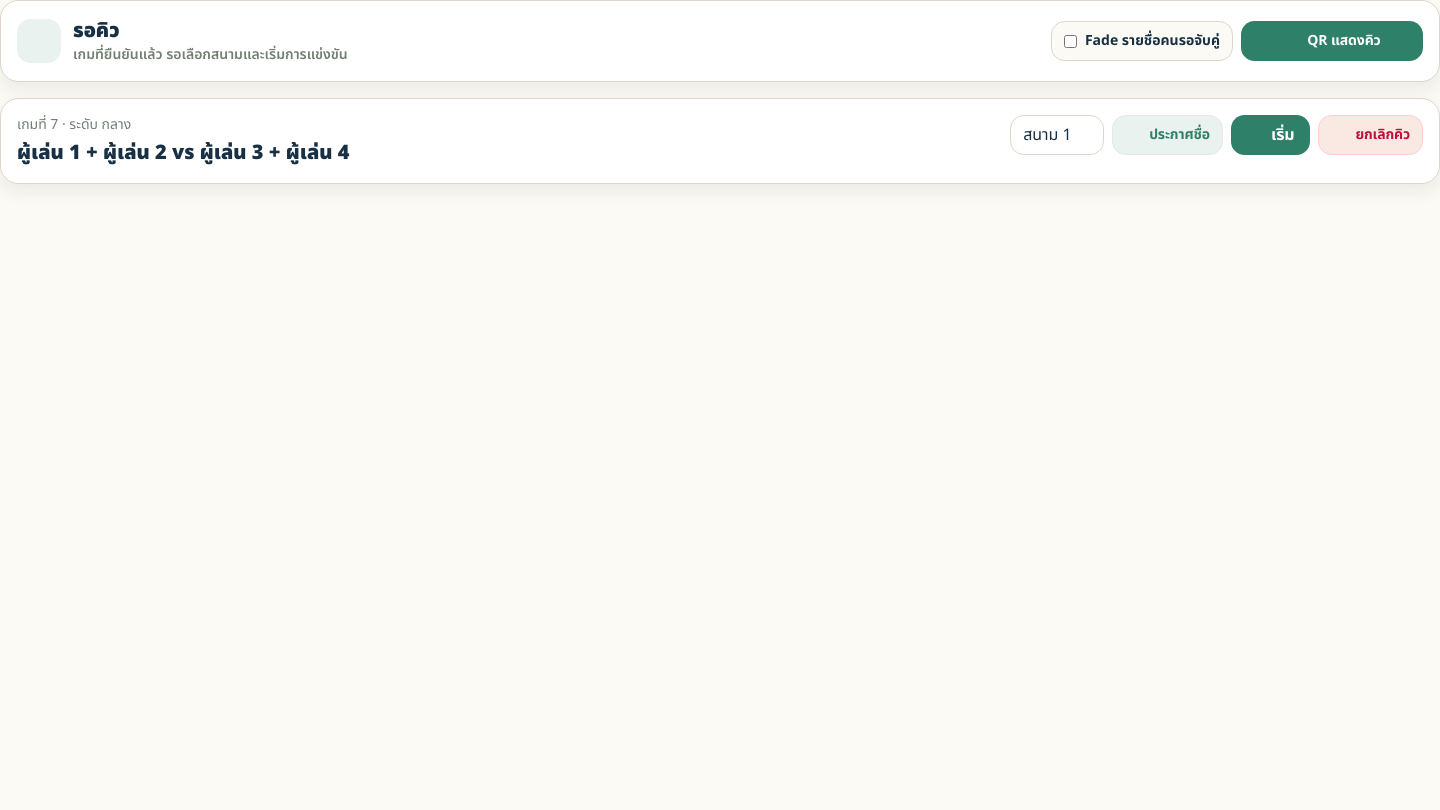
QueuePage shuttle stock › opens the selector and disables a linked brand when stock is empty
Click the button "เริ่ม" at [1271, 135], box [1231,115,1310,155]
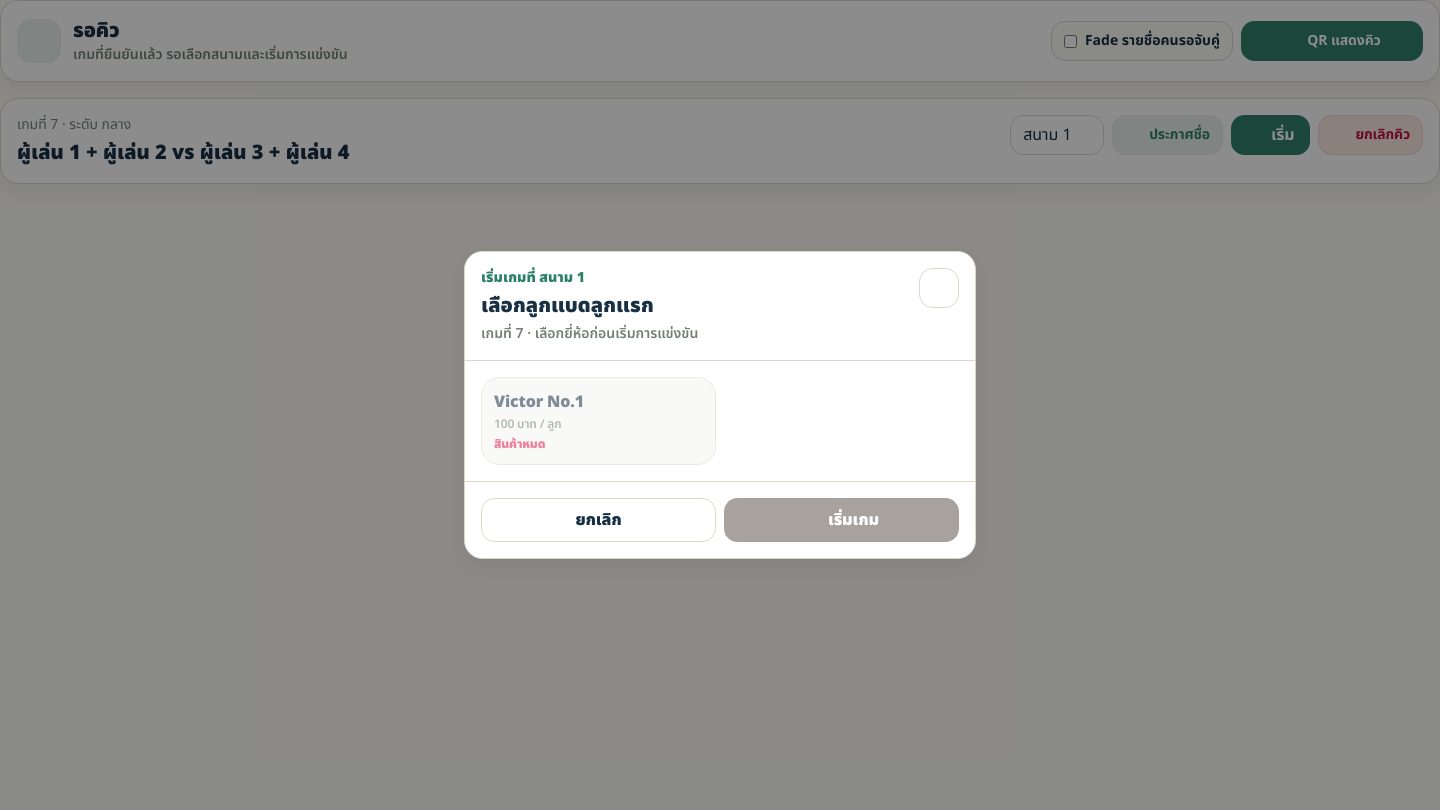
Expected: the text "สินค้าหมด" is shown, [494,435,545,453]
Expected: the button "Victor No.1 100 บาท / ลูก สินค้าหมด" is disabled, [481,377,716,465]
